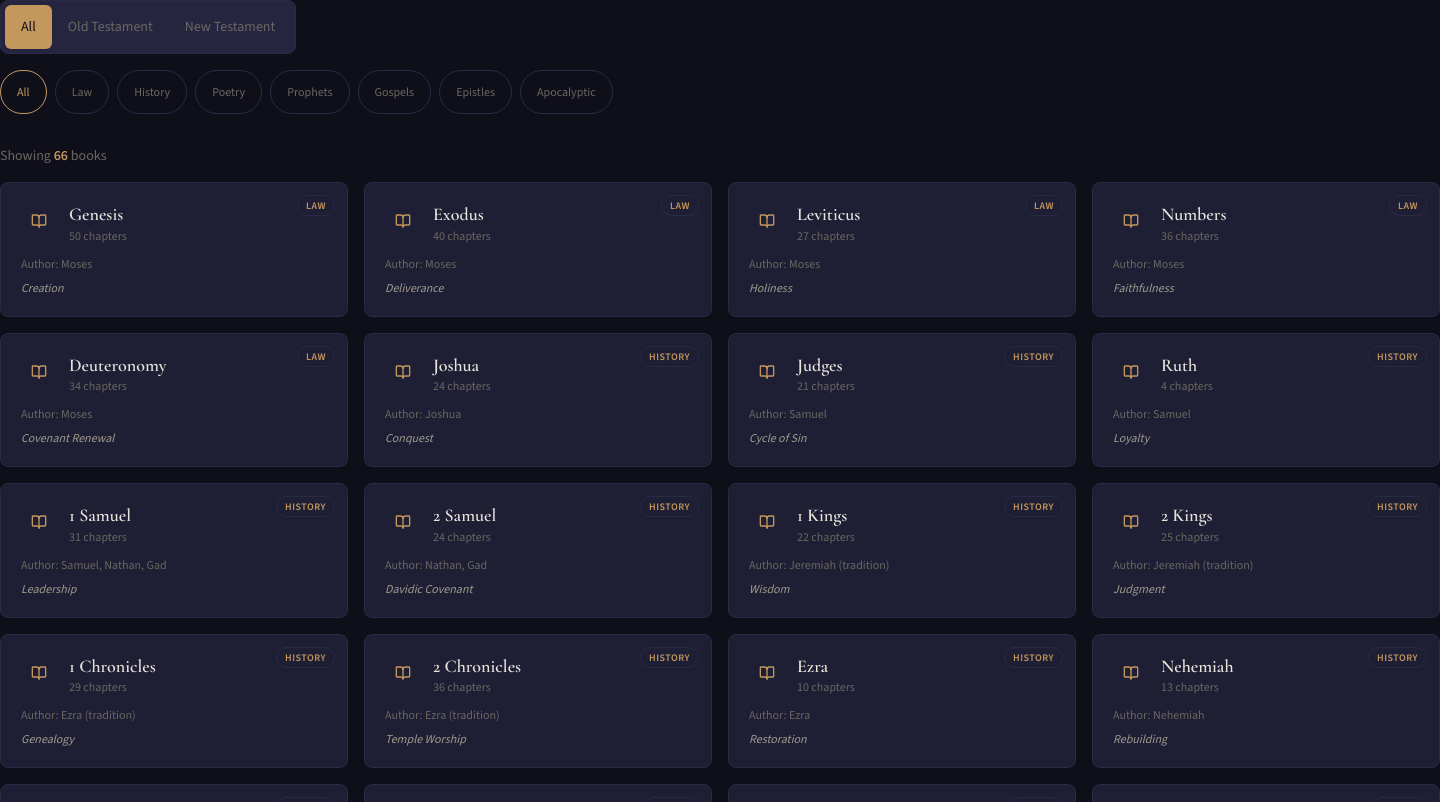
Test: BookGrid › shows empty state when no books match filters
Select OT + Gospels → no books match
Step 1. Click the radio button "Old Testament" → point(110, 27), box 52,5 -> 169,49
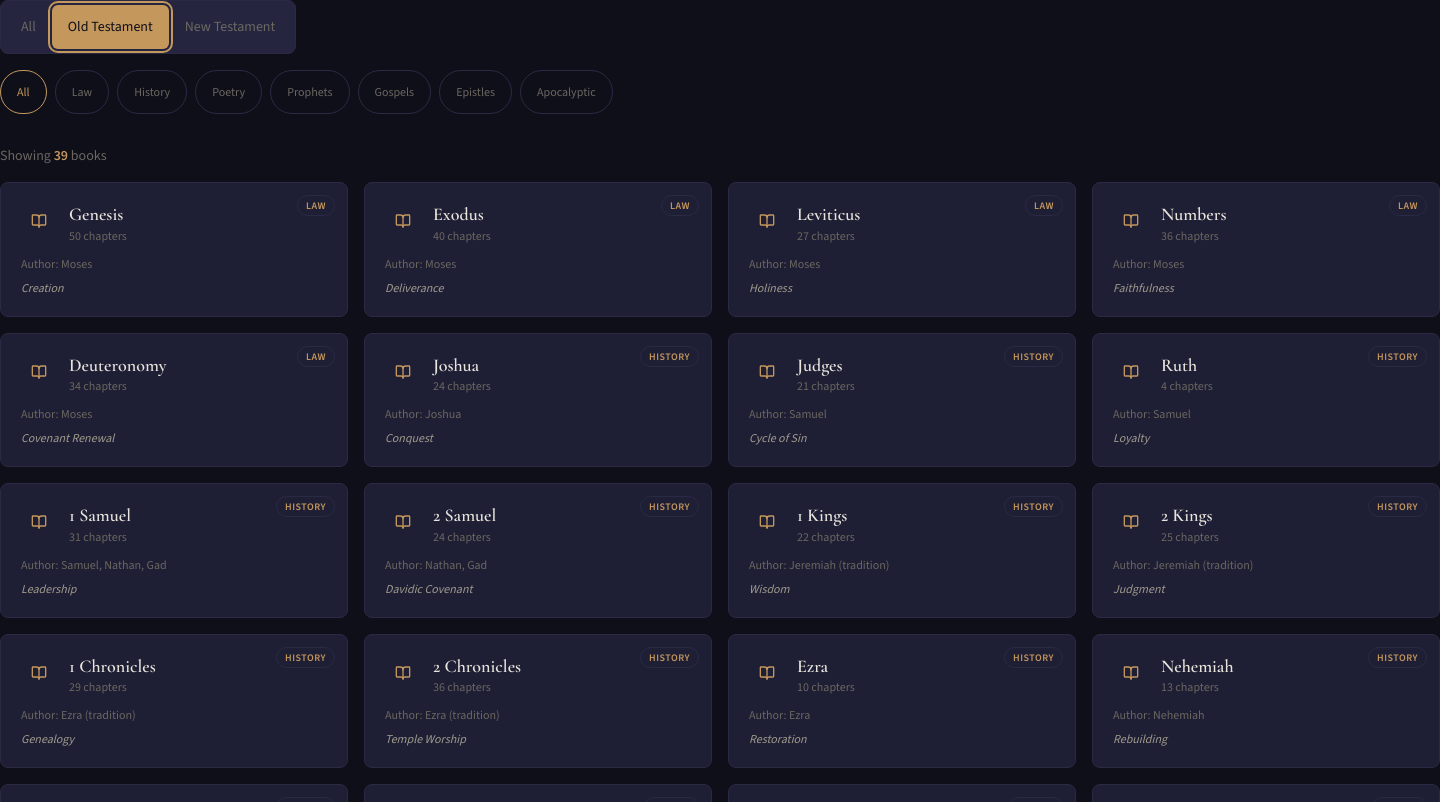
Step 2. Click the radio button "Gospels" → point(394, 92), box 358,70 -> 431,114
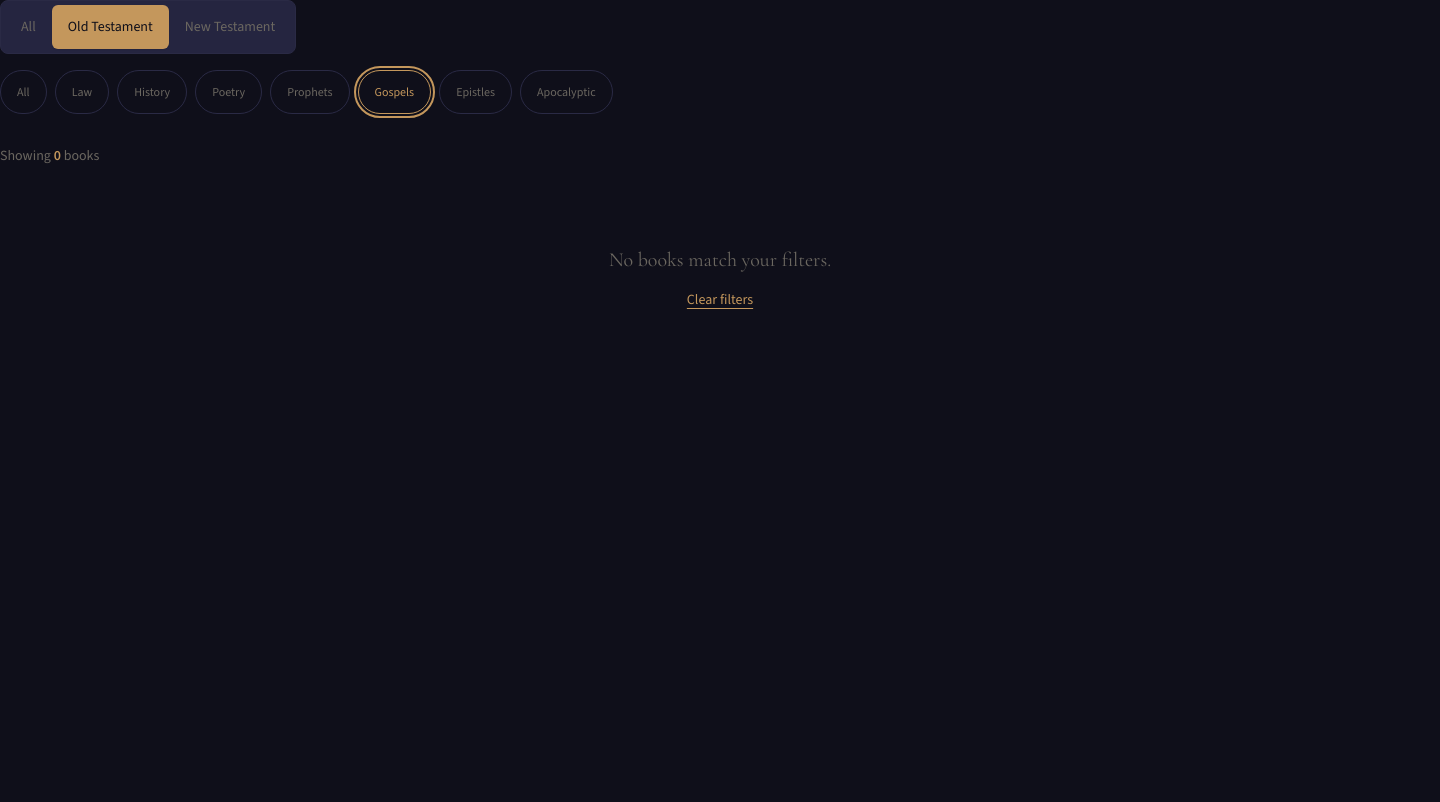
Expected: the text "0" is shown, 54,146 -> 61,165
Expected: the text "No books match your filters." is shown, 609,248 -> 831,272
